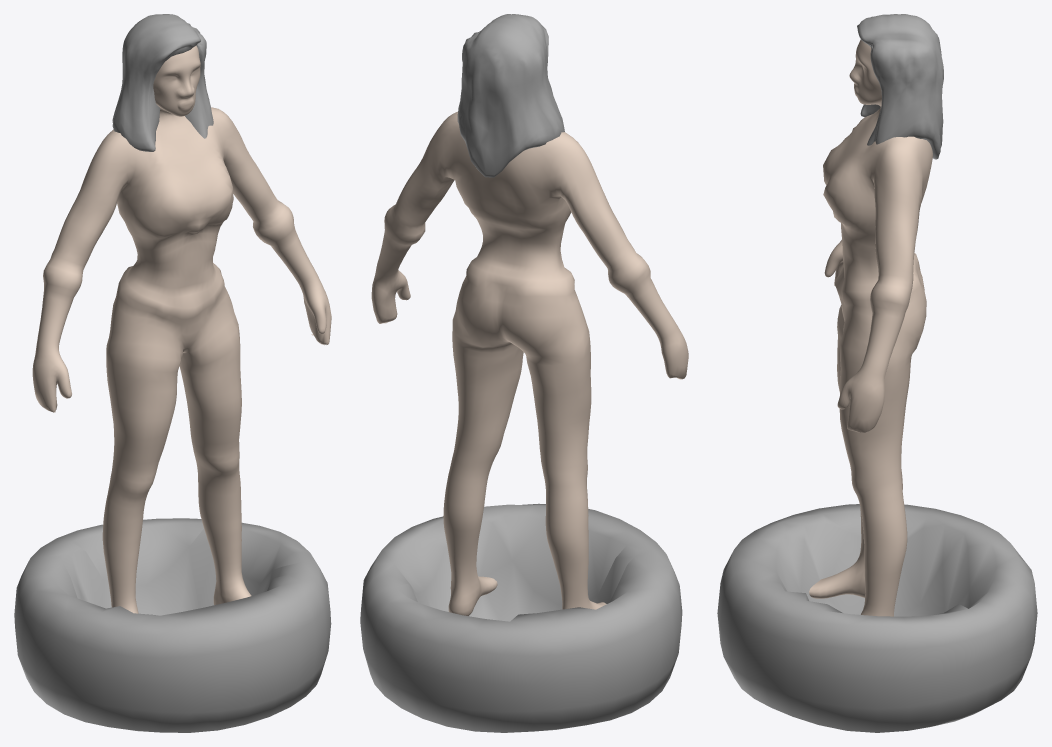
Rendered from pitGirl2withTire.fbx.
The picture shows the model from 3 angles, left to right: view 1: azimuth 30°, elevation 25°; view 2: azimuth 150°, elevation 25°; view 3: azimuth 270°, elevation 25°; orthographic projection.
Parts seen in each view (by area): view 1: humanBody, Tire, sphere; view 2: humanBody, Tire, sphere; view 3: Tire, humanBody, sphere.
Boxes of the visible parts, x1=… form: humanBody: x1=32, y1=45, x2=331, y2=613; Tire: x1=14, y1=518, x2=331, y2=732; sphere: x1=112, y1=14, x2=213, y2=151; humanBody: x1=371, y1=111, x2=688, y2=616; Tire: x1=360, y1=503, x2=682, y2=732; sphere: x1=457, y1=14, x2=564, y2=177; Tire: x1=717, y1=504, x2=1037, y2=732; humanBody: x1=809, y1=39, x2=932, y2=616; sphere: x1=857, y1=14, x2=943, y2=159.
Bounding box in the file's own units: 93.66 × 197 × 86.37.
